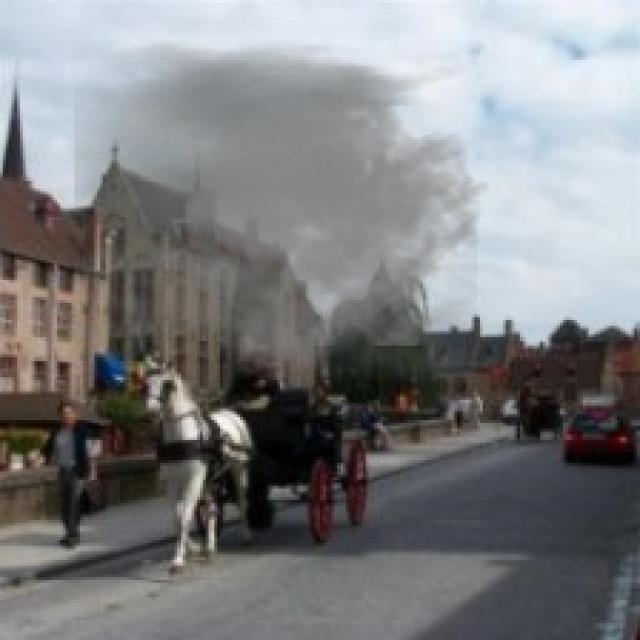Smoke: (74, 40, 492, 383)
